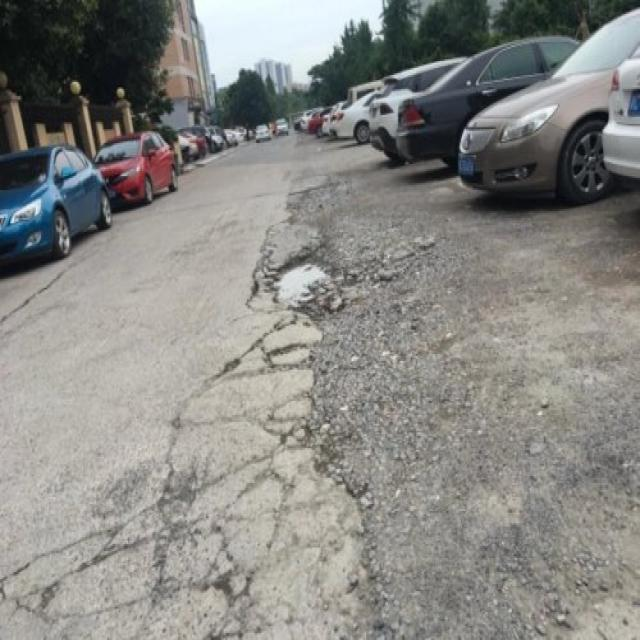Pothole: (254, 251, 348, 312)
